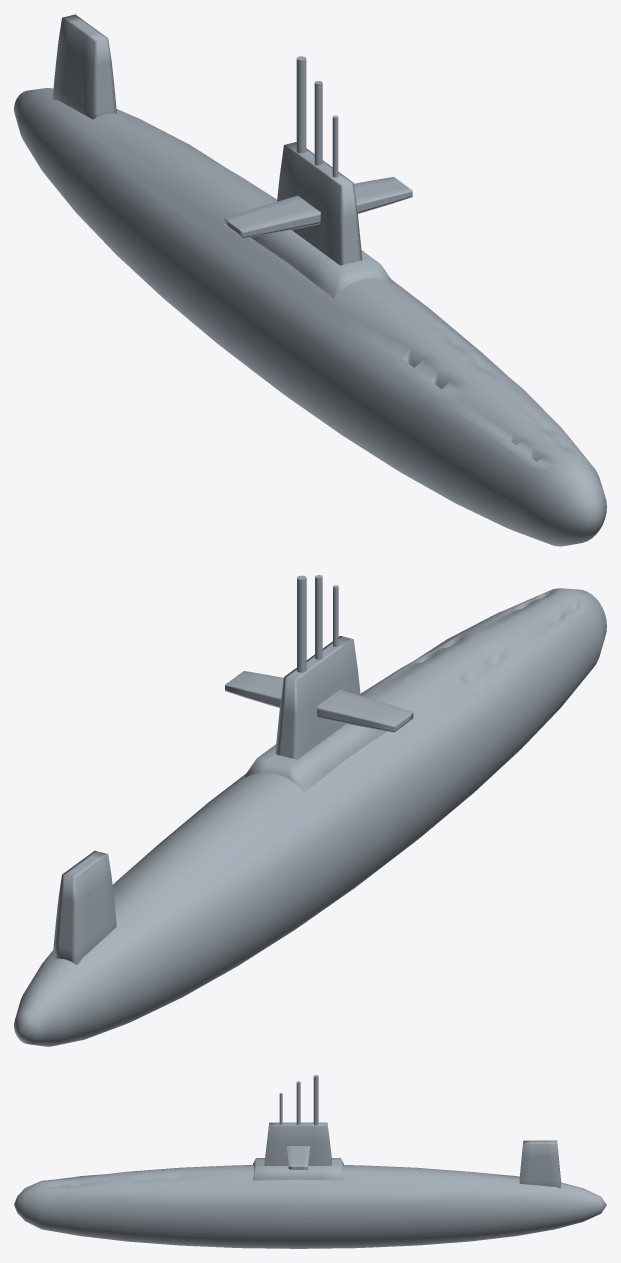
The model's file is submarine.glb.
3 renders of one model, top to bottom at view 1: azimuth 30°, elevation 25°; view 2: azimuth 150°, elevation 25°; view 3: azimuth 270°, elevation 25°, orthographic. The views are drawn at different scales.
Parts seen in each view (by area): view 1: Sphere, Cube.001, Cube.004, Cube, Cube.002, Cube.003, Cylinder, Cylinder.001; view 2: Sphere, Cube.001, Cube.004, Cube, Cube.002, Cube.003, Cylinder, Cylinder.001; view 3: Sphere, Cube.001, Cube.004, Cube, Cube.003, Cylinder.
Boxes of the visible parts, left/top/right/bottom form: Sphere: left=14, top=88, right=606, bottom=546; Cube.001: left=277, top=142, right=362, bottom=265; Cube.004: left=52, top=14, right=116, bottom=119; Cube: left=251, top=230, right=392, bottom=298; Cube.002: left=224, top=195, right=320, bottom=238; Cube.003: left=354, top=177, right=412, bottom=213; Cylinder: left=296, top=56, right=306, bottom=153; Cylinder.001: left=314, top=81, right=322, bottom=165; Sphere: left=14, top=588, right=606, bottom=1046; Cube.001: left=275, top=636, right=360, bottom=759; Cube.004: left=52, top=851, right=116, bottom=964; Cube: left=244, top=724, right=386, bottom=792; Cube.002: left=316, top=689, right=413, bottom=732; Cube.003: left=225, top=671, right=283, bottom=707; Cylinder: left=297, top=575, right=306, bottom=672; Cylinder.001: left=315, top=575, right=322, bottom=659; Sphere: left=14, top=1165, right=606, bottom=1248; Cube.001: left=264, top=1122, right=331, bottom=1165; Cube.004: left=519, top=1140, right=561, bottom=1188; Cube: left=252, top=1158, right=344, bottom=1180; Cube.003: left=286, top=1146, right=310, bottom=1169; Cylinder: left=313, top=1075, right=318, bottom=1125.
Size of the model in its own units: 0.7516 by 1.39 by 4.4.
